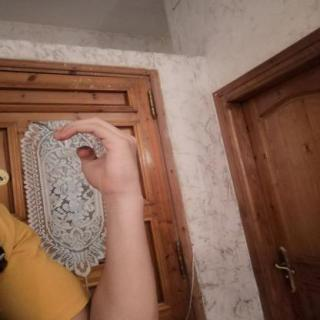JEEM: (44, 113, 154, 204)
